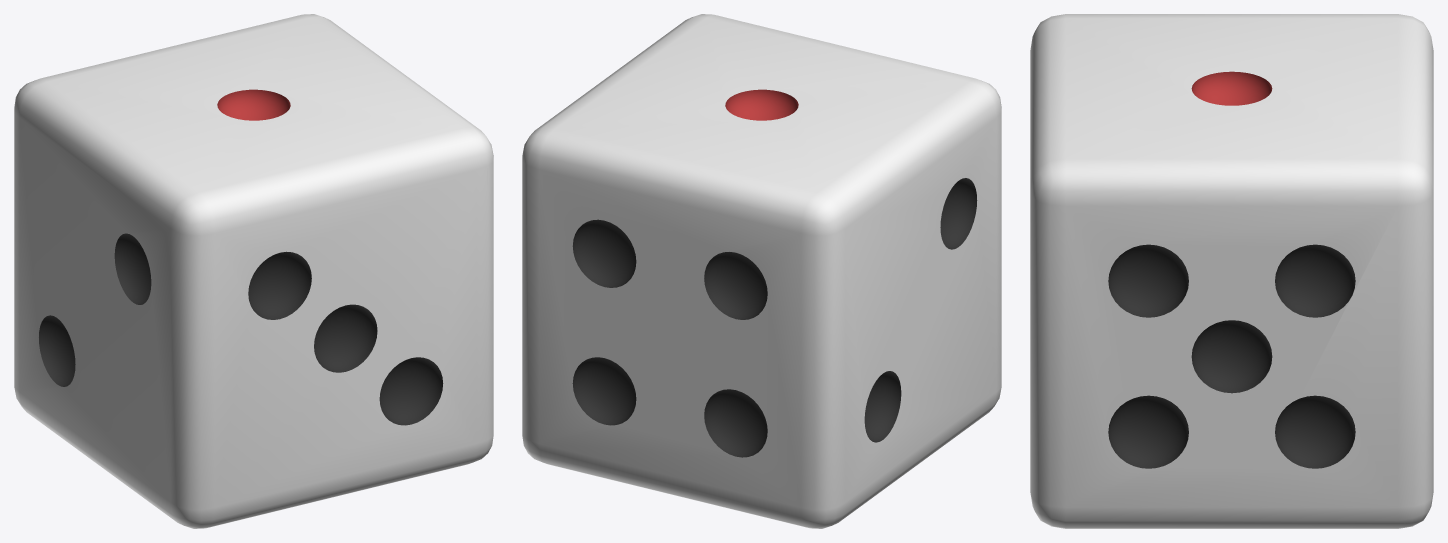
Rendered from Dice.fbx.
The picture shows the model from 3 angles, left to right: view 1: azimuth 30°, elevation 25°; view 2: azimuth 150°, elevation 25°; view 3: azimuth 270°, elevation 25°; orthographic projection. The views are drawn at different scales.
Parts seen in each view (by area): view 1: saikoro; view 2: saikoro; view 3: saikoro.
Part boxes in pixels (x1,y1,x2,y2): saikoro: (14, 14, 493, 528); saikoro: (522, 14, 1001, 528); saikoro: (1030, 14, 1433, 528).
Size of the model in its own units: 1.5 by 1.5 by 1.5.
Materials: 1 (1 with a texture image).
